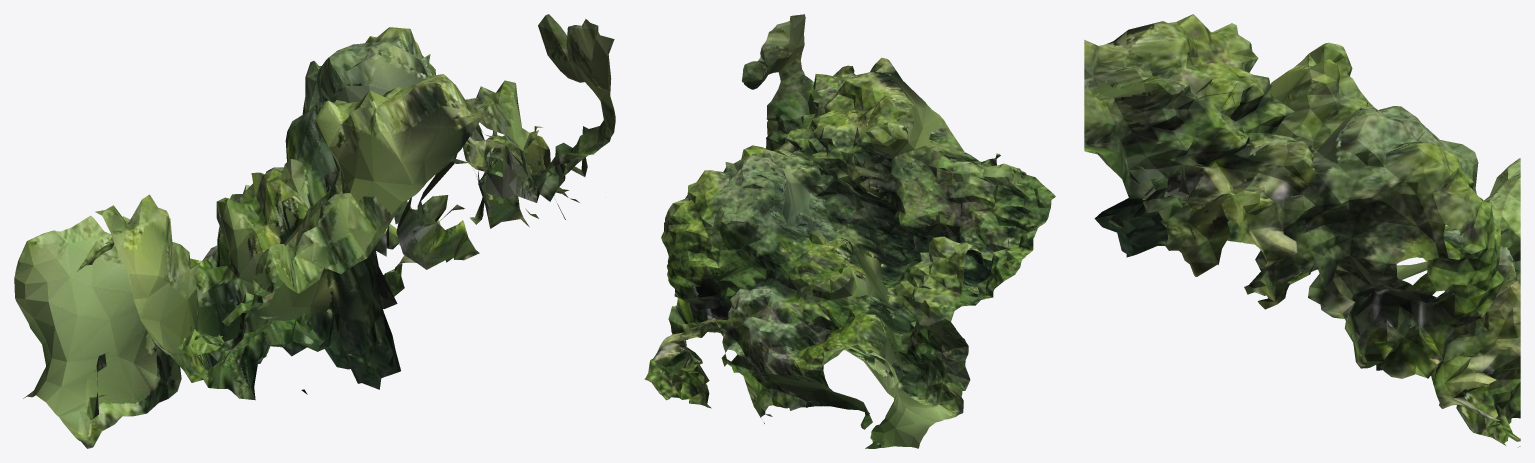
3 renders of one model, left to right at view 1: azimuth 30°, elevation 25°; view 2: azimuth 150°, elevation 25°; view 3: azimuth 270°, elevation 25°, orthographic. The views are drawn at different scales.
Size of the model in its own units: 26.11 by 26.11 by 26.11.
7 materials, 7 textured.
